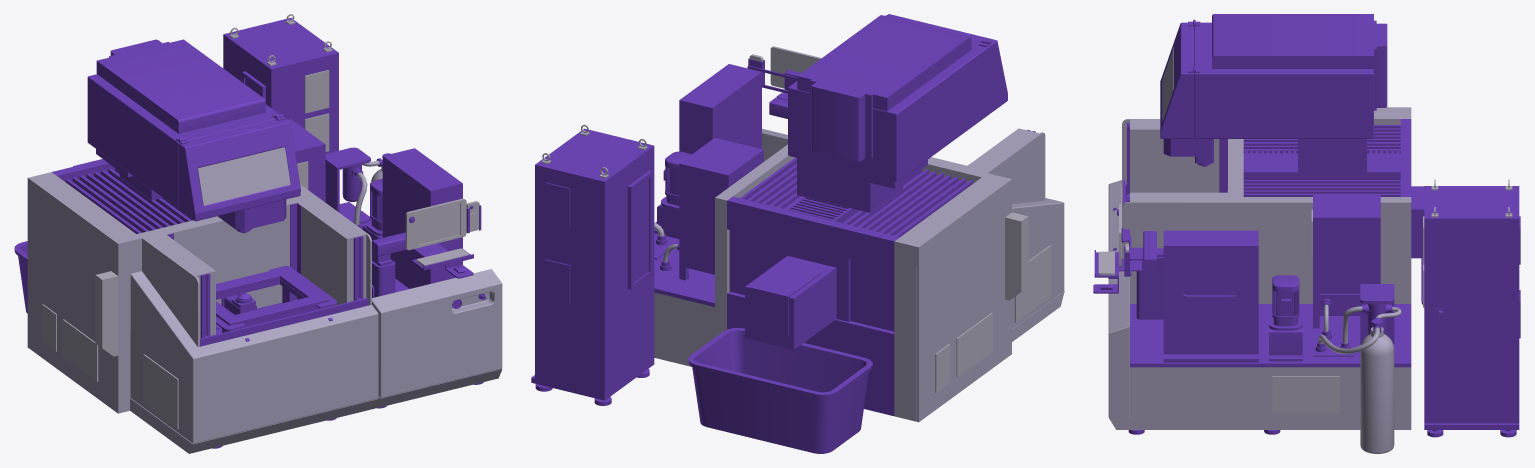
File: edm.glb
3 renders of one model, left to right at view 1: azimuth 30°, elevation 25°; view 2: azimuth 150°, elevation 25°; view 3: azimuth 270°, elevation 25°, orthographic. The views are drawn at different scales.
Visible parts, largest first — view 1: Cube.002, Cube.056, Cube.003, Cube.064, Cube.174, Cube.171, Cube.155, Cube.169, Cube.083, Cube.078, Cube.061, Cube.170 (+35 smaller); view 2: Cube.155, Cube.168, Cube.003, Cube.171, Cube.174, Cube.078, Cube.139, Cube.080, Cube.083, Cube.146, Cube.145, Cube.216 (+33 smaller); view 3: Cube.156, Cube.171, Cube.070, Cube.079, Cube.174, Cube.124, Cube.126, Cube.155, Cube.064, Cube.061, Sphere.001, Cube.083 (+34 smaller).
Boxes of the visible parts, x1,y1,x2,y2 form: Cube.002: (130, 271, 378, 443); Cube.056: (372, 269, 502, 397); Cube.003: (27, 196, 107, 405); Cube.064: (163, 201, 349, 334); Cube.174: (96, 39, 265, 133); Cube.171: (87, 74, 278, 208); Cube.155: (223, 18, 338, 153); Cube.169: (178, 119, 300, 221); Cube.083: (382, 148, 462, 287); Cube.078: (30, 172, 141, 412); Cube.061: (142, 196, 371, 346); Cube.170: (197, 147, 290, 205); Cube.155: (531, 128, 654, 400); Cube.168: (688, 328, 872, 453); Cube.003: (916, 206, 1001, 422); Cube.171: (788, 41, 990, 181); Cube.174: (797, 15, 971, 111); Cube.078: (894, 173, 1009, 421); Cube.139: (679, 138, 763, 268); Cube.080: (727, 196, 899, 269); Cube.083: (679, 64, 761, 153); Cube.146: (729, 230, 894, 331); Cube.145: (727, 291, 894, 415); Cube.216: (810, 79, 872, 161); Cube.156: (1428, 221, 1515, 420); Cube.171: (1194, 22, 1373, 138); Cube.070: (1130, 367, 1411, 417); Cube.079: (1233, 197, 1411, 303); Cube.174: (1212, 14, 1373, 68); Cube.124: (1169, 251, 1253, 349); Cube.126: (1130, 304, 1411, 367); Cube.155: (1424, 186, 1519, 429); Cube.064: (1130, 128, 1230, 193); Cube.061: (1122, 119, 1232, 303); Sphere.001: (1360, 327, 1394, 453); Cube.083: (1163, 230, 1258, 354).
Size of the model in its own units: 3.27 by 2.38 by 3.15.
